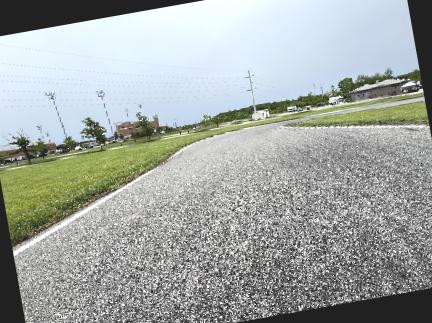Grass: (0, 97, 405, 244), (0, 119, 276, 244), (272, 92, 423, 119), (288, 102, 428, 127)
Lane: (14, 123, 431, 322)
